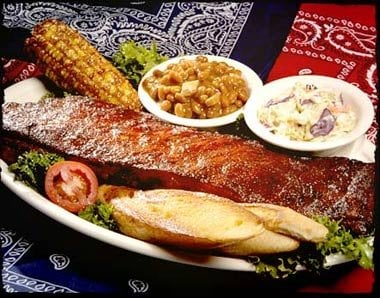curry: (112, 39, 170, 89), (8, 150, 66, 193)
sushi: (243, 74, 372, 153), (138, 53, 264, 129)
